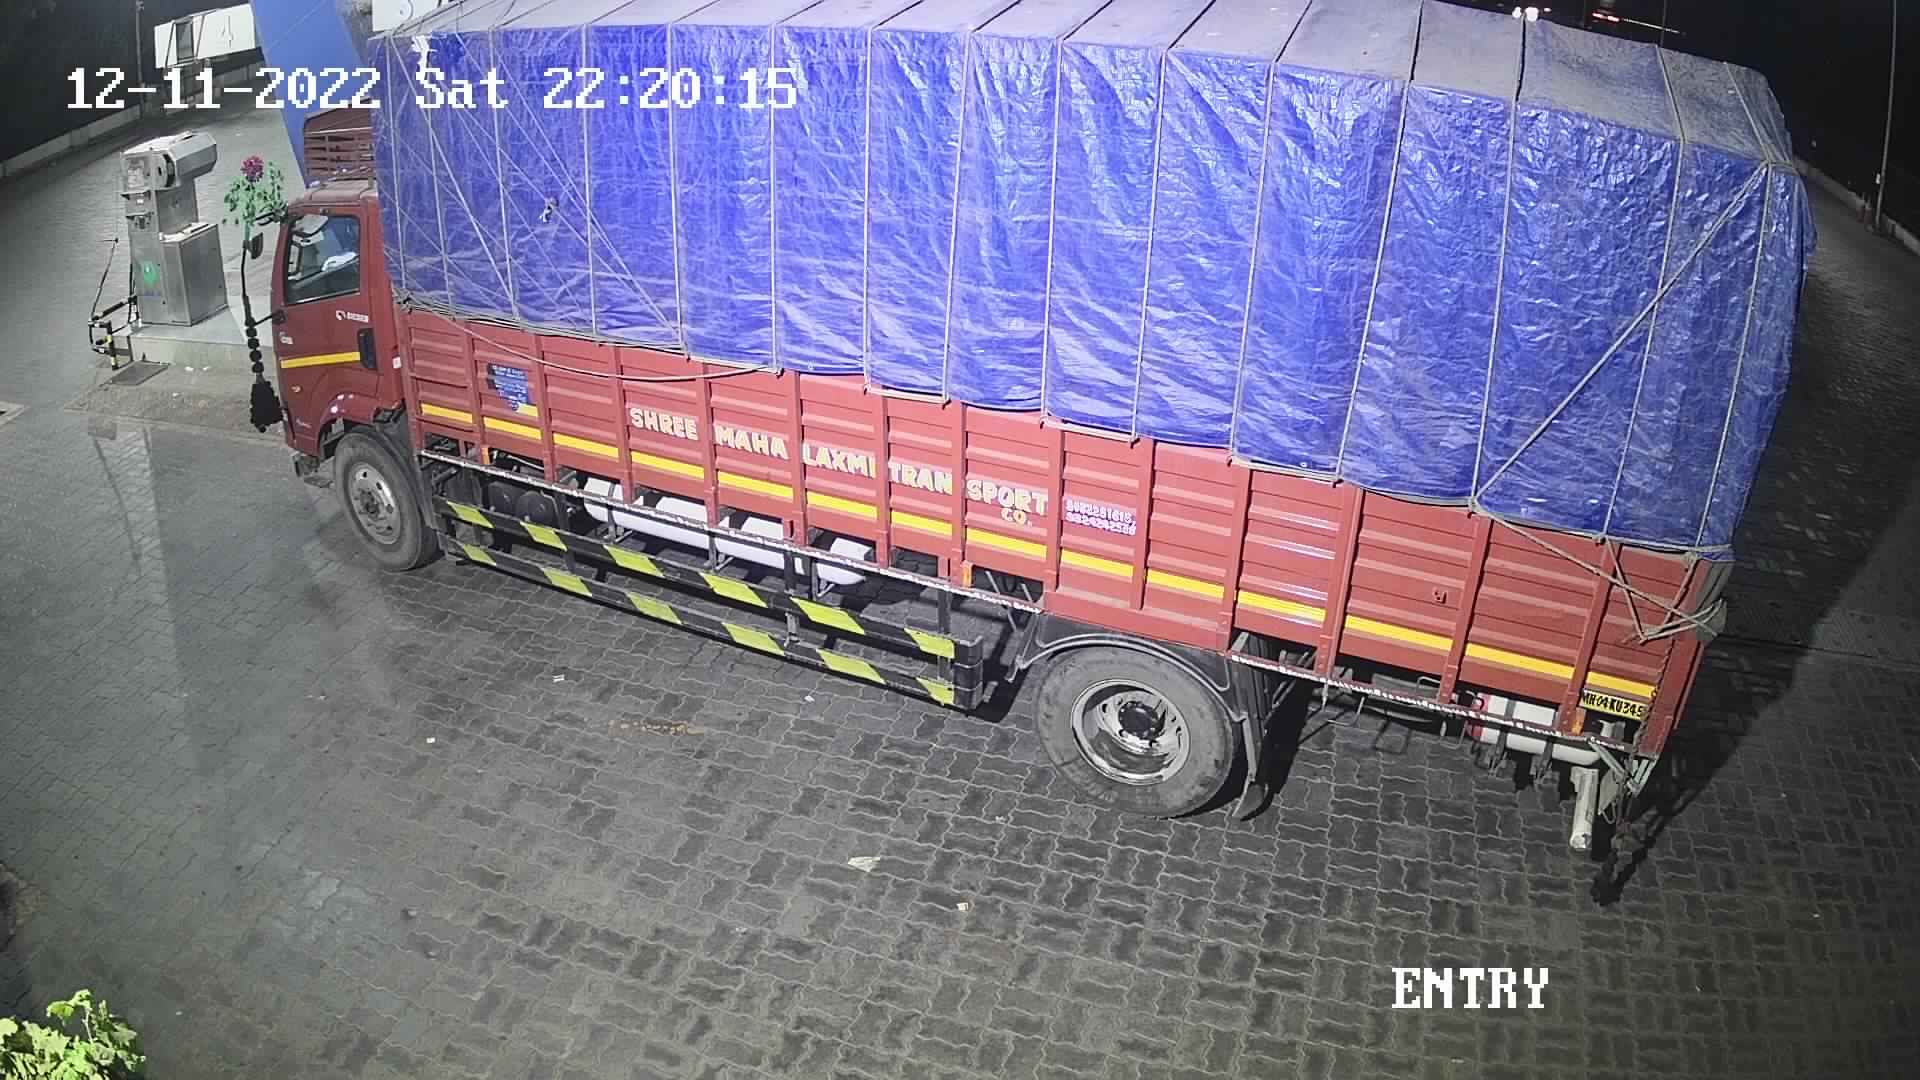HMV: (190, 0, 1828, 916)
